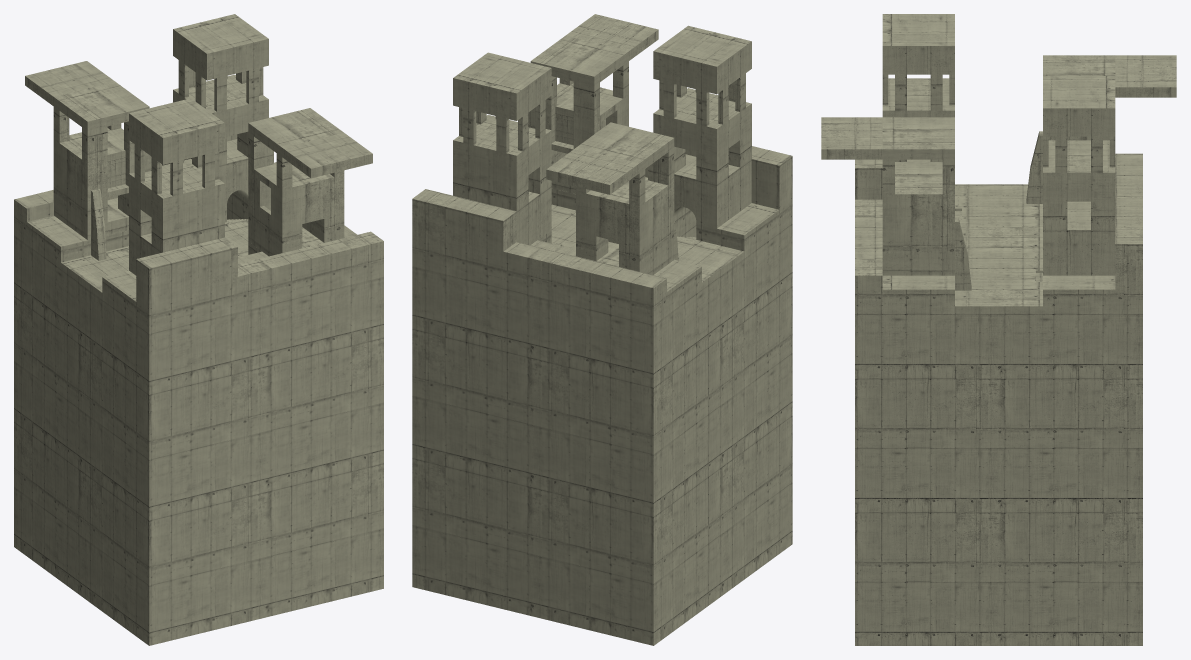
Rendered from SM_NeoLD_11_Block_00.fbx.
3 renders of one model, left to right at view 1: azimuth 30°, elevation 25°; view 2: azimuth 150°, elevation 25°; view 3: azimuth 270°, elevation 25°, orthographic. The views are drawn at different scales.
Parts seen in each view (by area): view 1: SM_NeoLD_11_Block_00; view 2: SM_NeoLD_11_Block_00; view 3: SM_NeoLD_11_Block_00.
Boxes of the visible parts, x1,y1,x2,y2 form: SM_NeoLD_11_Block_00: [14, 14, 383, 645]; SM_NeoLD_11_Block_00: [412, 14, 792, 645]; SM_NeoLD_11_Block_00: [821, 14, 1176, 645].
Bounding box in the file's own units: 3119 × 6243 × 3836.
